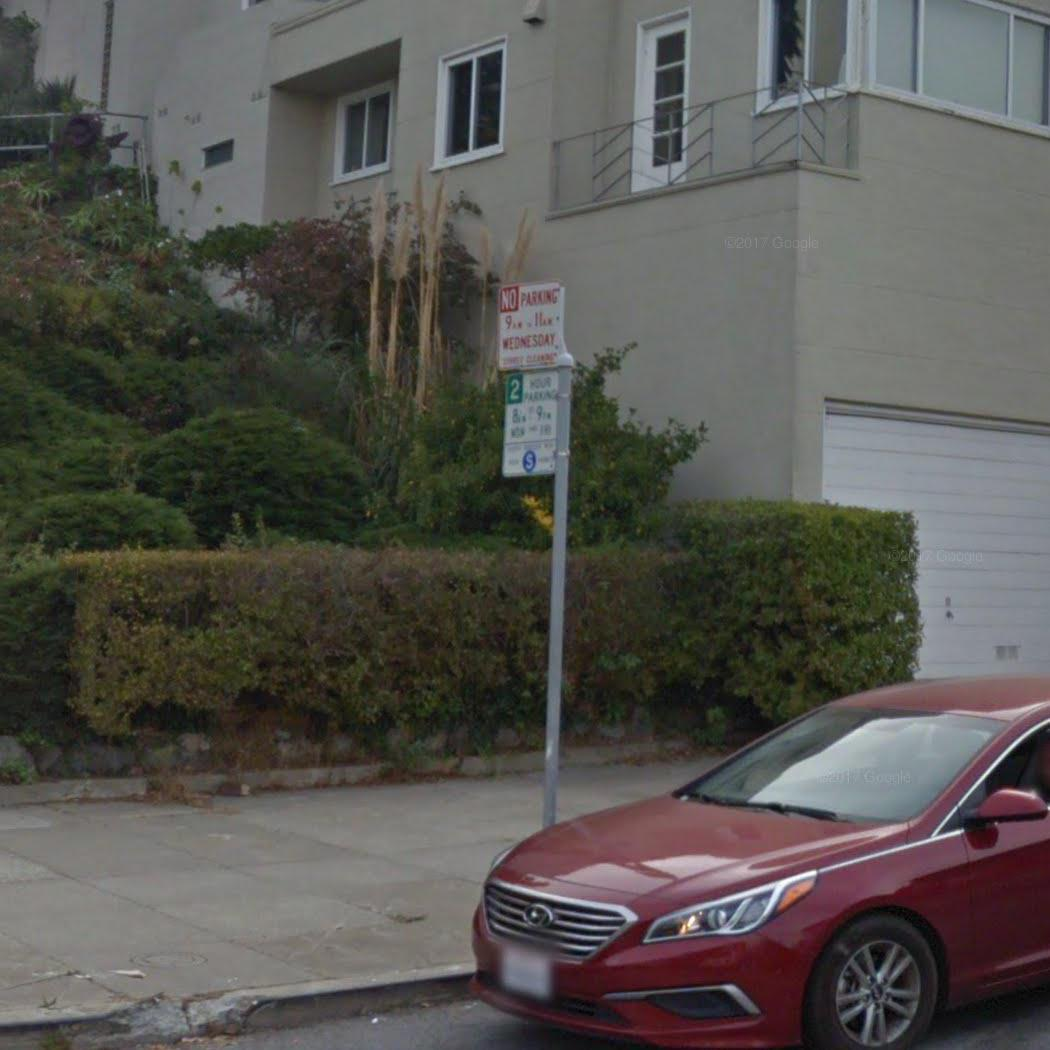2 Hour Parking: (503, 369, 562, 483)
No Parking: (496, 278, 563, 371)
